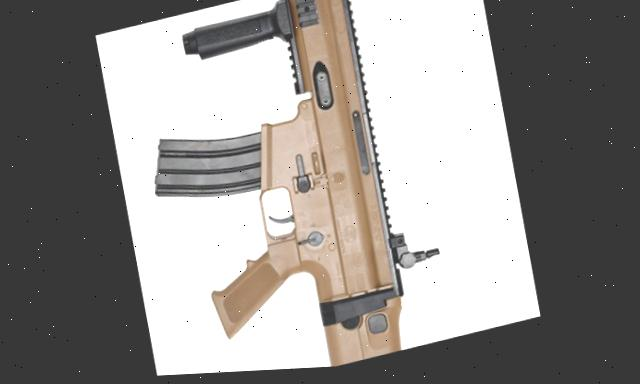rifle: (112, 0, 468, 379)
